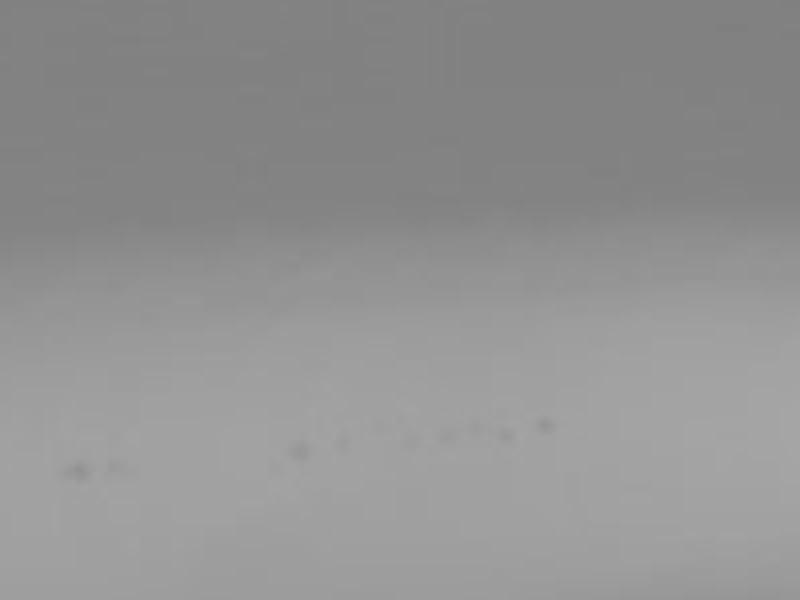defect: (494, 423, 519, 451), (395, 427, 423, 452), (286, 437, 311, 463), (433, 423, 458, 447), (536, 414, 559, 439), (62, 462, 88, 483), (333, 431, 356, 454), (105, 459, 121, 476)
